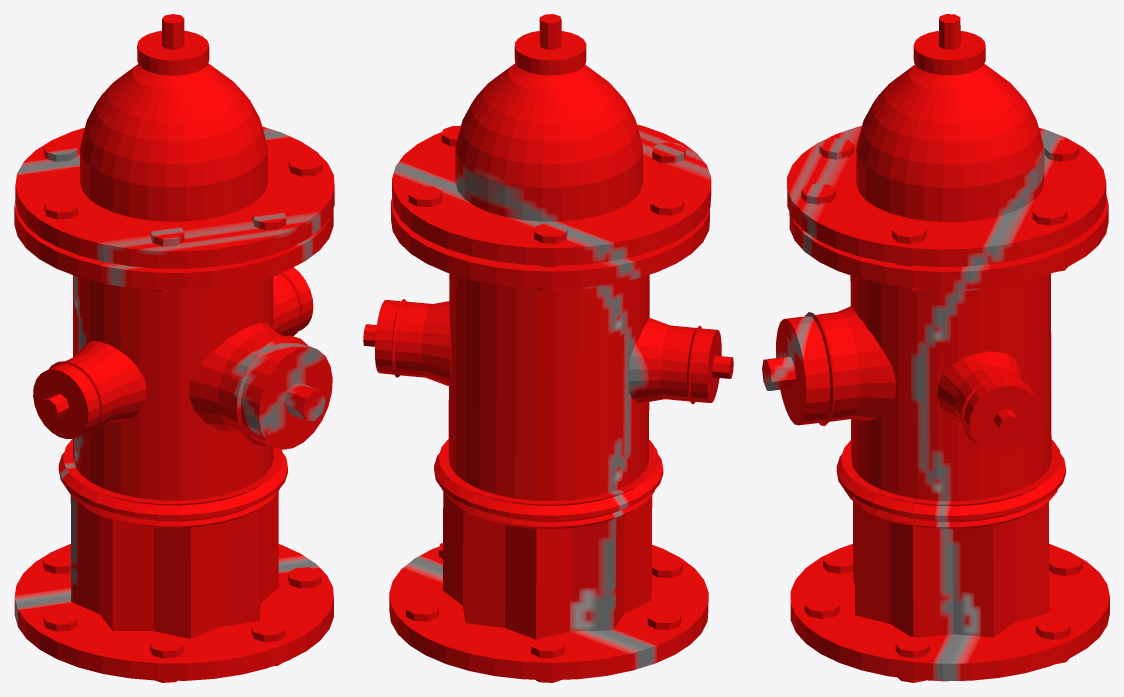
The model's file is Hydrant.obj.
The picture shows the model from 3 angles, left to right: view 1: azimuth 30°, elevation 25°; view 2: azimuth 150°, elevation 25°; view 3: azimuth 270°, elevation 25°; orthographic projection.
Parts seen in each view (by area): view 1: Cylinder; view 2: Cylinder; view 3: Cylinder.
Part boxes in pixels (left/top/right/bottom): Cylinder: left=14, top=14, right=334, bottom=682; Cylinder: left=363, top=14, right=733, bottom=682; Cylinder: left=762, top=14, right=1109, bottom=682.
Bounding box in the file's own units: 2.36 × 4.32 × 2.26.
